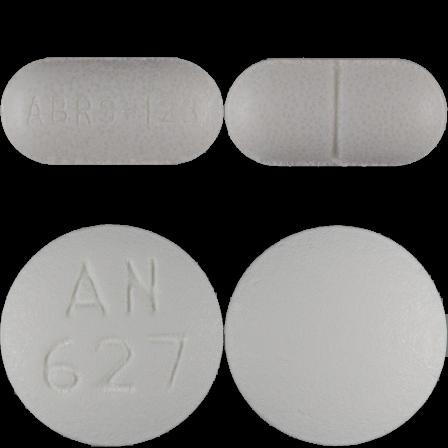10544-528: (0, 0, 224, 224)
